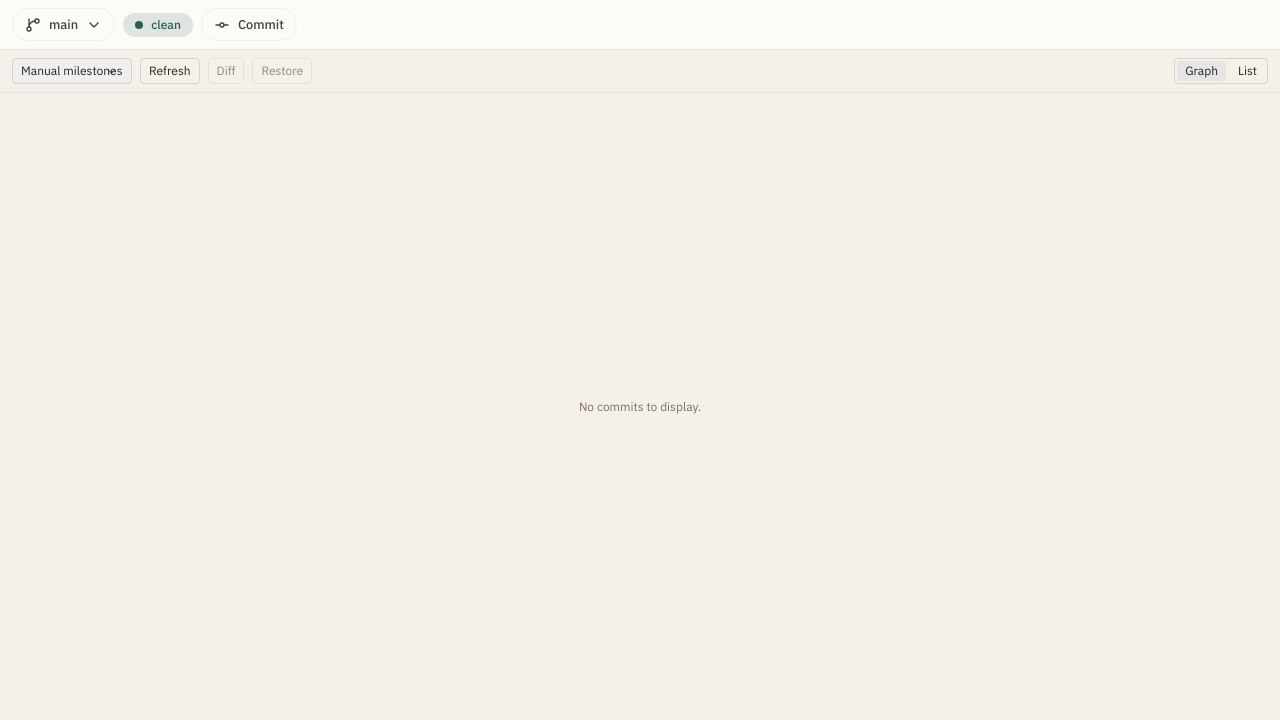
GitTab — composed surface › clicking Commit opens the CommitDialog
The image size is (1280, 720).
Click the button with test id "git-tab-commit-button".
click(249, 25)  # box [201,8,297,41]
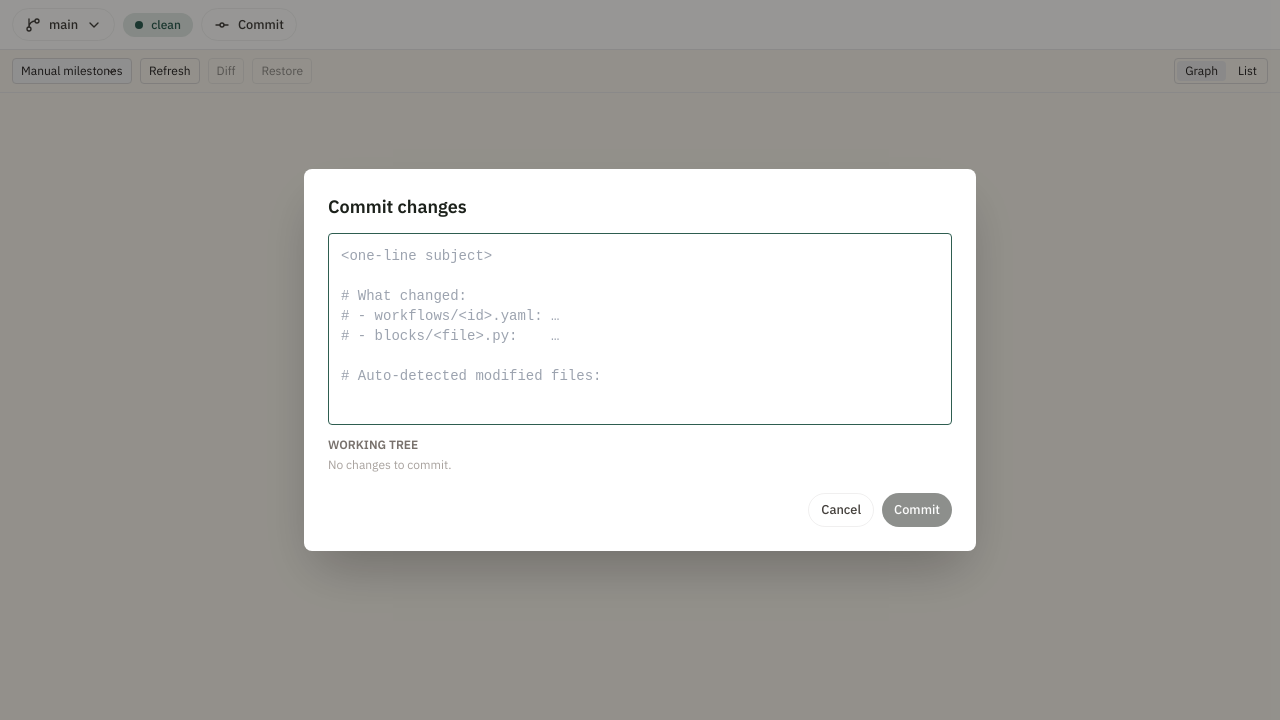
Expected: the element with test id "commit-dialog" is shown, [304,169,976,551]
